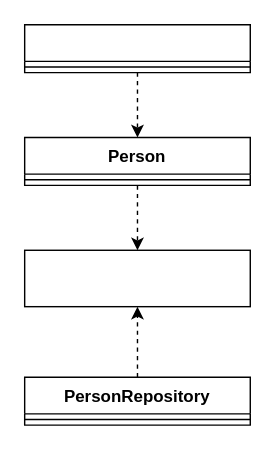
Image size: 275x450. Some labels were removed from this diagram. Here are the shapes that lost their labels. From the top down, the centre of each, then its label:
At pixel 136 48: "Ui".
At pixel 136 278: "«interface» IPersonRepository".
